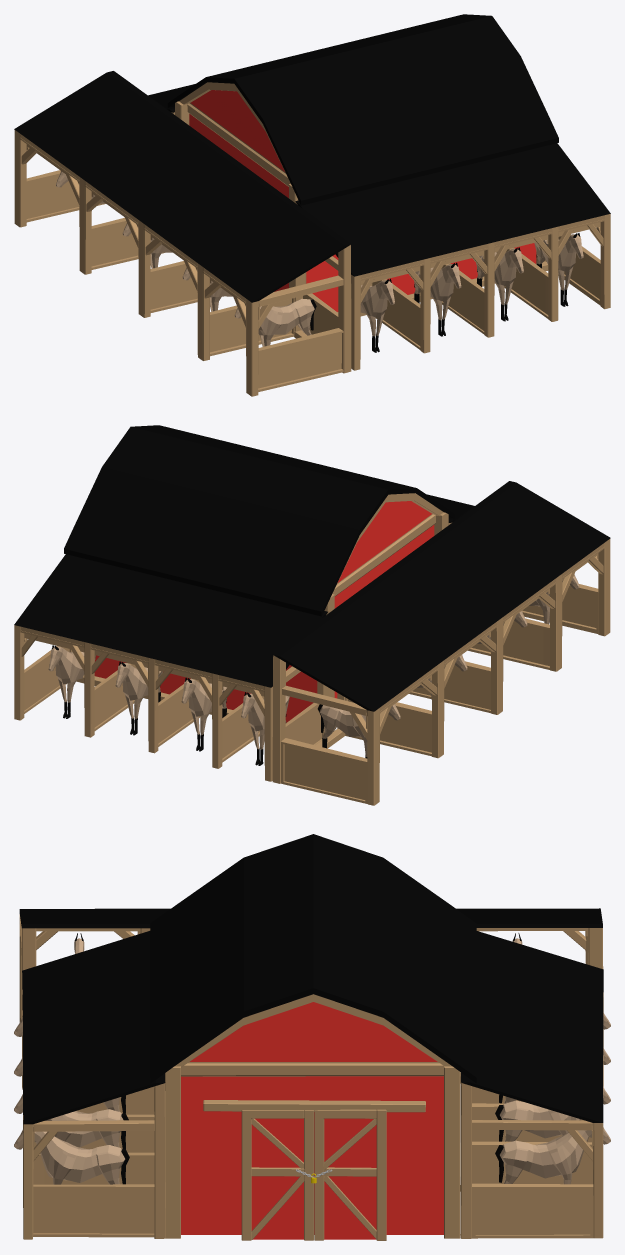
Rendered from Stables.fbx.
The picture shows the model from 3 angles, top to bottom: view 1: azimuth 30°, elevation 25°; view 2: azimuth 150°, elevation 25°; view 3: azimuth 270°, elevation 25°; orthographic projection. The views are drawn at different scales.
Visible parts, largest first — view 1: Cube.029; view 2: Cube.029; view 3: Cube.029.
Boxes of the visible parts, bbox=[...] form: Cube.029: bbox=[14, 14, 610, 396]; Cube.029: bbox=[14, 425, 610, 805]; Cube.029: bbox=[14, 834, 610, 1240].
Bounding box in the file's own units: 1200 × 648 × 1388.
